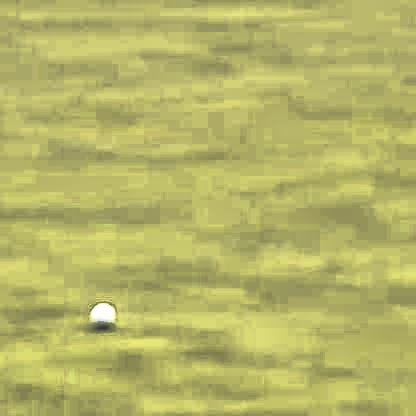golfball: (87, 304, 111, 326)
